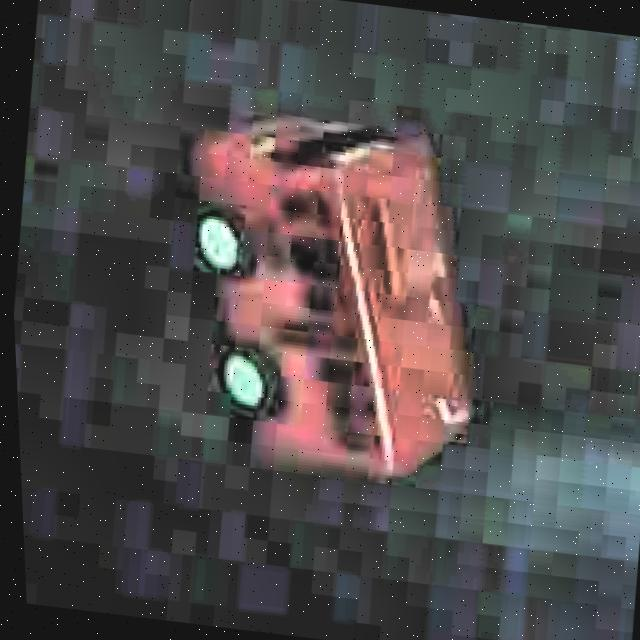bus: (133, 92, 520, 502)
